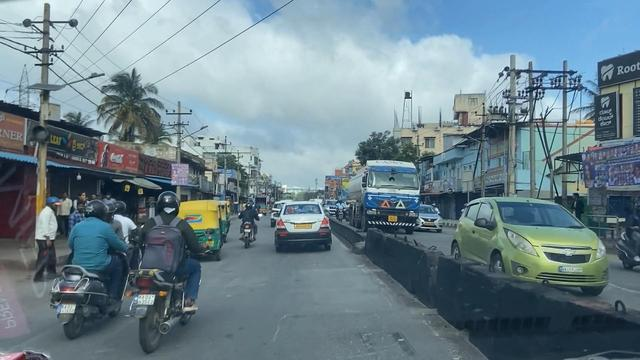LMV: (126, 190, 190, 352), (43, 192, 109, 340), (275, 200, 330, 252), (179, 201, 224, 259), (240, 205, 259, 247)
